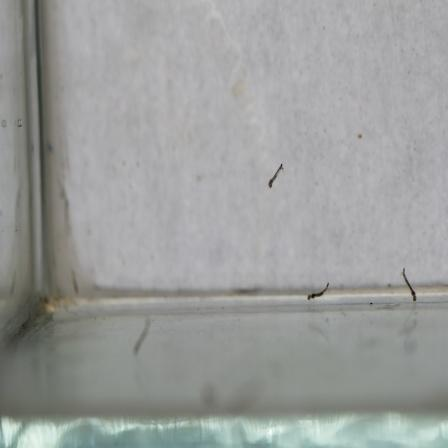Jentik-Nyamuk: (398, 265, 420, 302), (303, 278, 333, 303), (267, 162, 287, 189)
